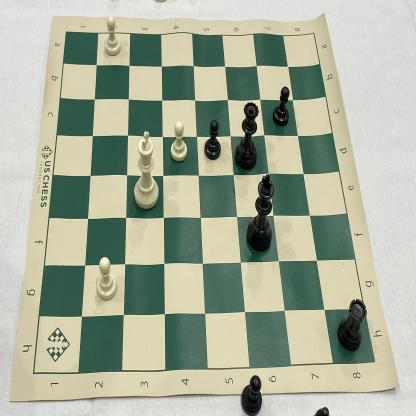black-king: (243, 172, 277, 256)
black-pawn: (202, 118, 223, 165), (271, 83, 291, 127)
black-queen: (234, 93, 259, 174)
black-rook: (333, 296, 367, 355)
white-king: (129, 128, 161, 213)
white-pawn: (91, 254, 120, 303), (101, 15, 124, 60), (167, 118, 189, 164)
